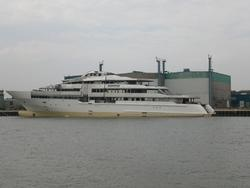yacht: (5, 47, 215, 121)
